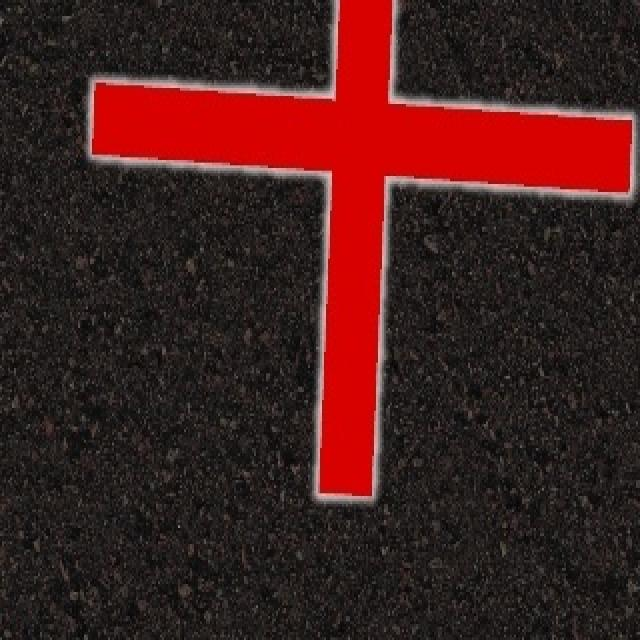x_marker: (91, 0, 631, 496)
